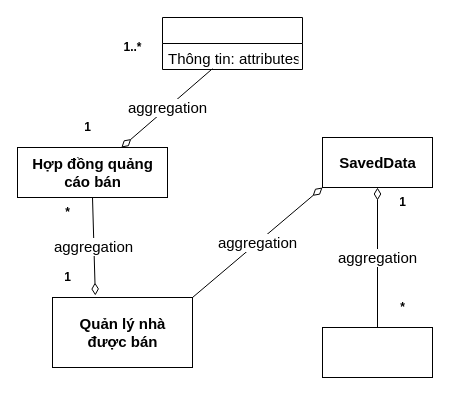
This 450x395 diagram has some shape labels left out. The box of each missing label's shape, as (x1, y1, x2, y2) in pixels:
Nhà: (162, 16, 302, 70)
User: (322, 326, 432, 378)
